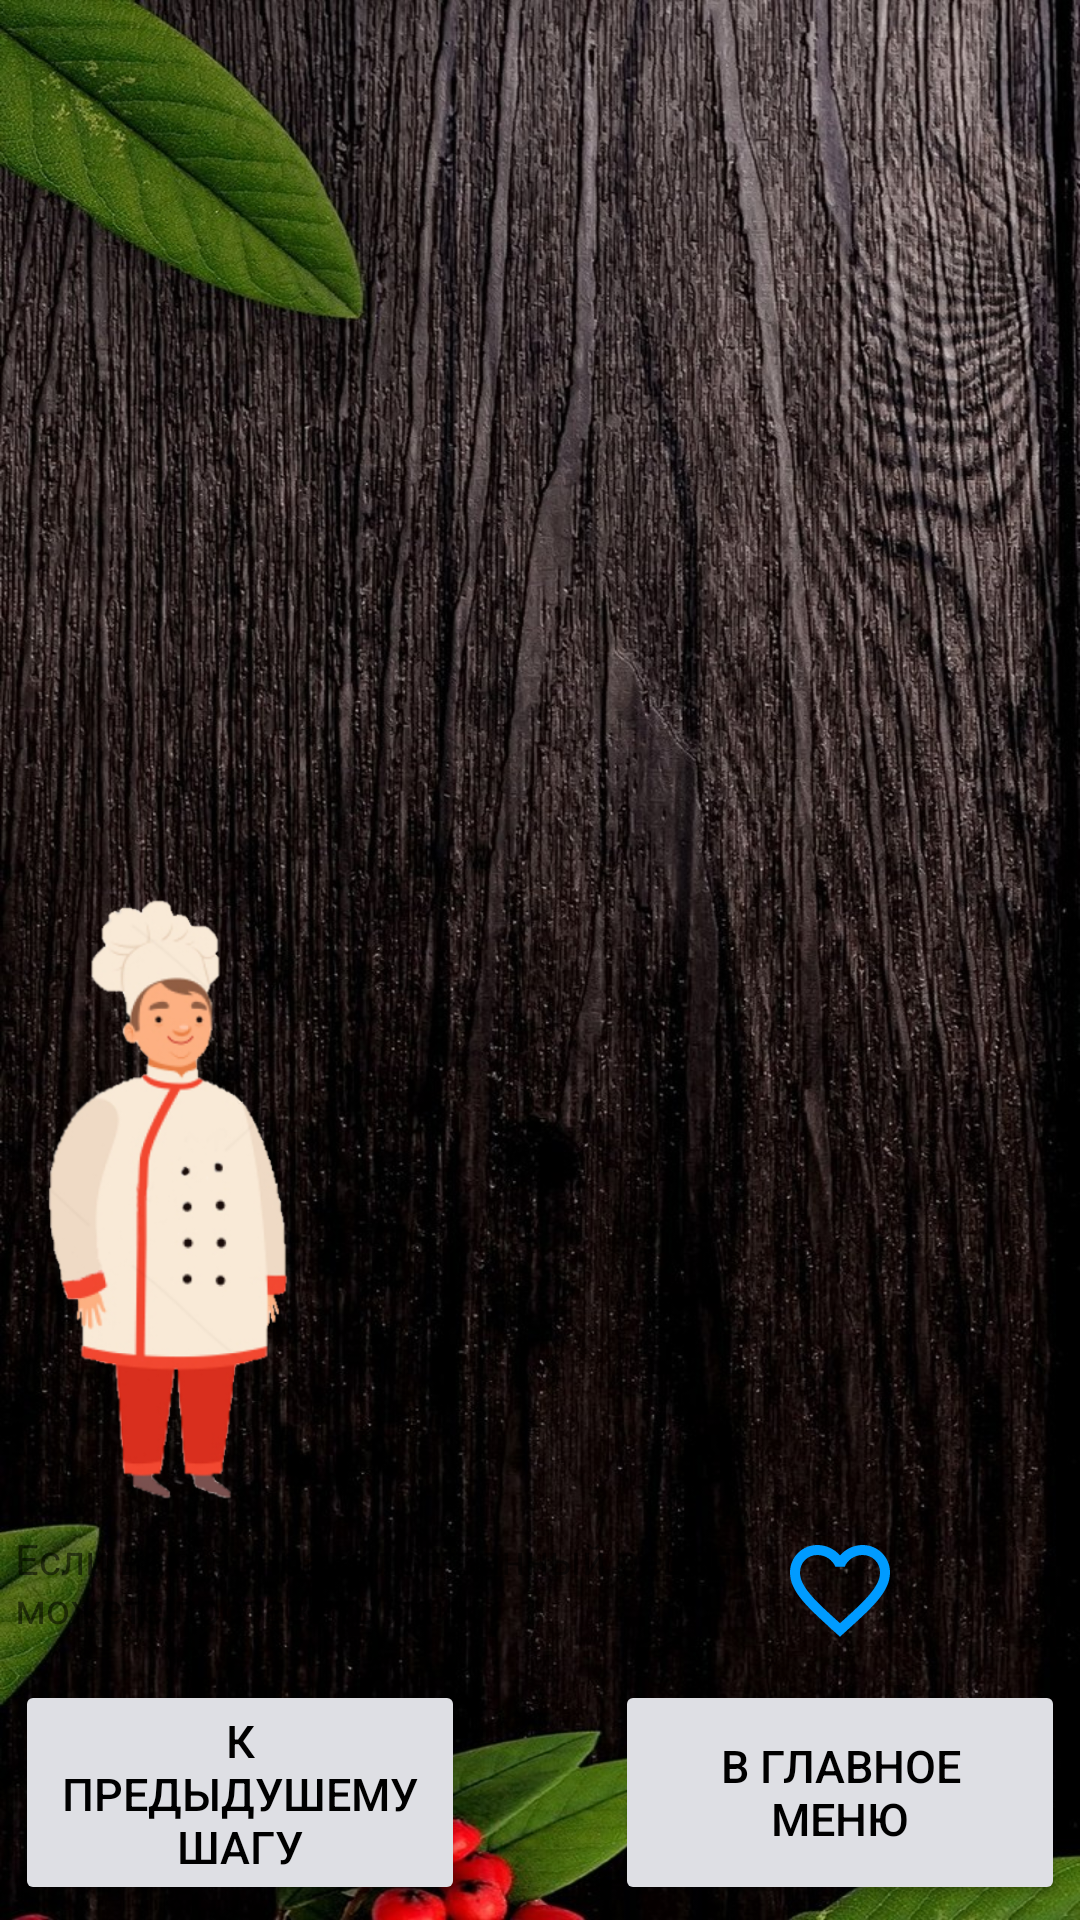

Point at icon controls on the screen. Image size 1080px×1920px, points as (x=x, y=y).
favorite border: (x=840, y=1590)
